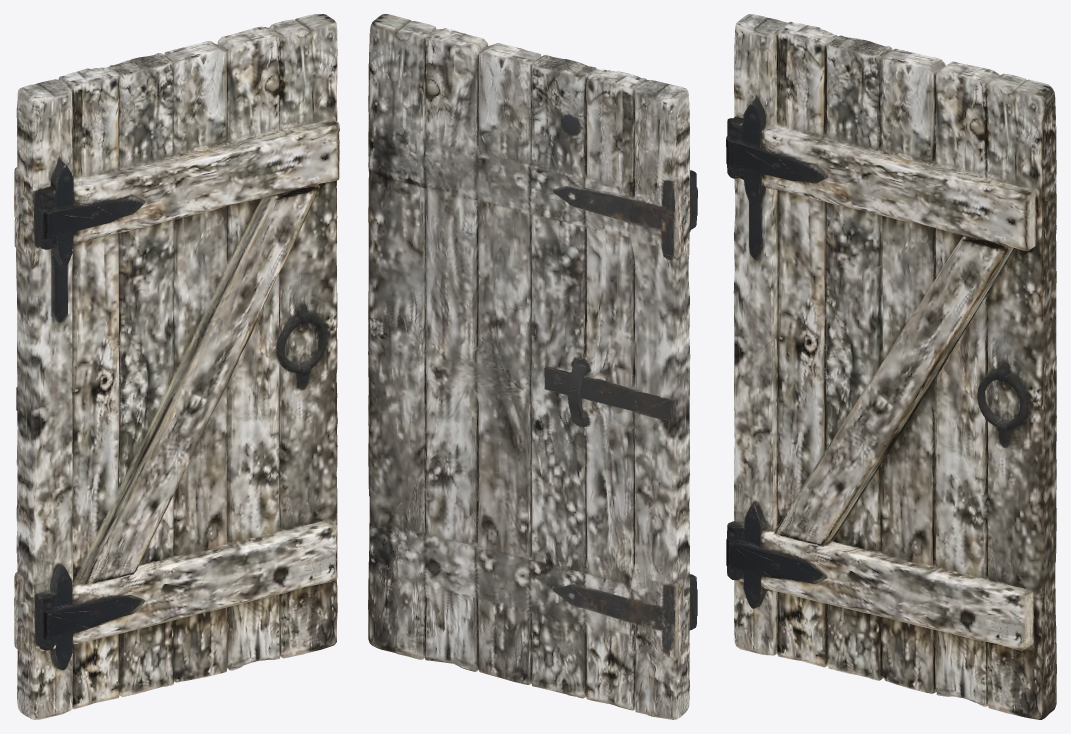
The model's file is bb_door_wood.80504a180b.glb.
3 views of the same model, side by side, from view 1: azimuth 30°, elevation 25°; view 2: azimuth 150°, elevation 25°; view 3: azimuth 330°, elevation 25° (orthographic).
Parts seen in each view (by area): view 1: bb_door_wood; view 2: bb_door_wood; view 3: bb_door_wood.
Part boxes in pixels (x1,y1,x2,y2): bb_door_wood: (14,14,339,719); bb_door_wood: (368,14,697,719); bb_door_wood: (726,14,1056,719).
Size of the model in its own units: 0.9876 by 1.9 by 0.1943.
Materials: 1 (1 with a texture image).
